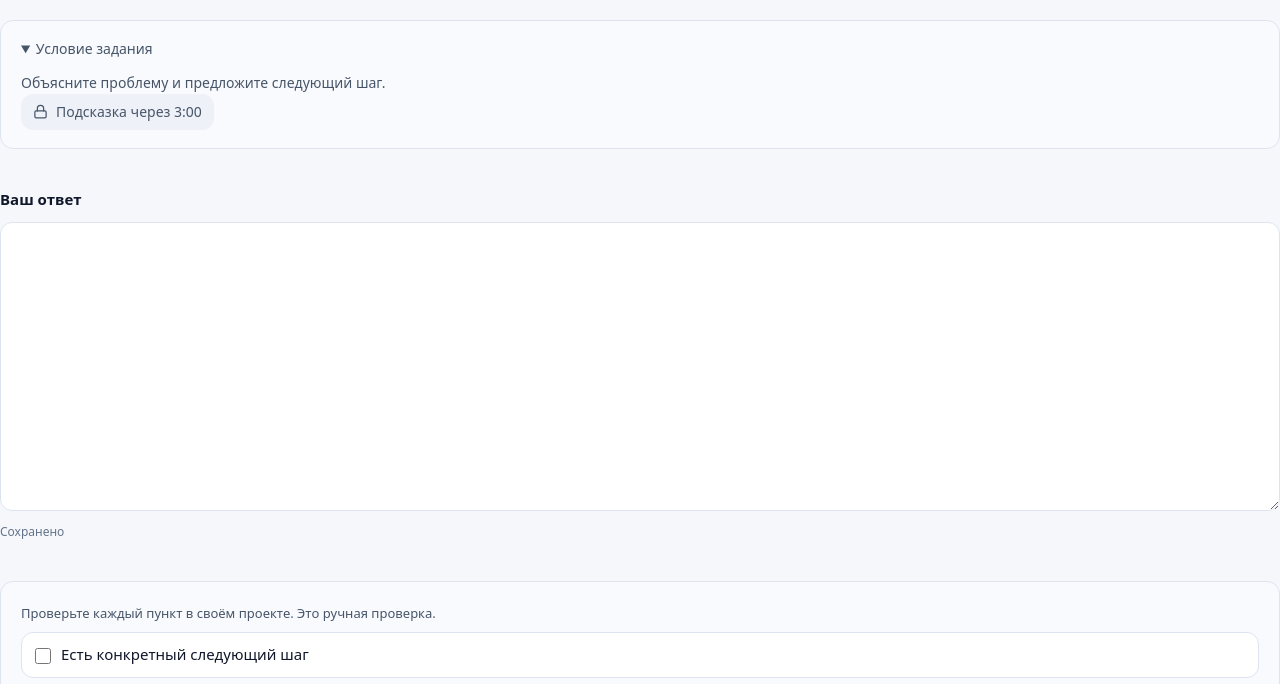
Test: written learning assignments › requires an answer, persists it and records an honest manual result once
Click the checkbox. click: {"x": 43, "y": 656}
box: [35, 648, 51, 664]
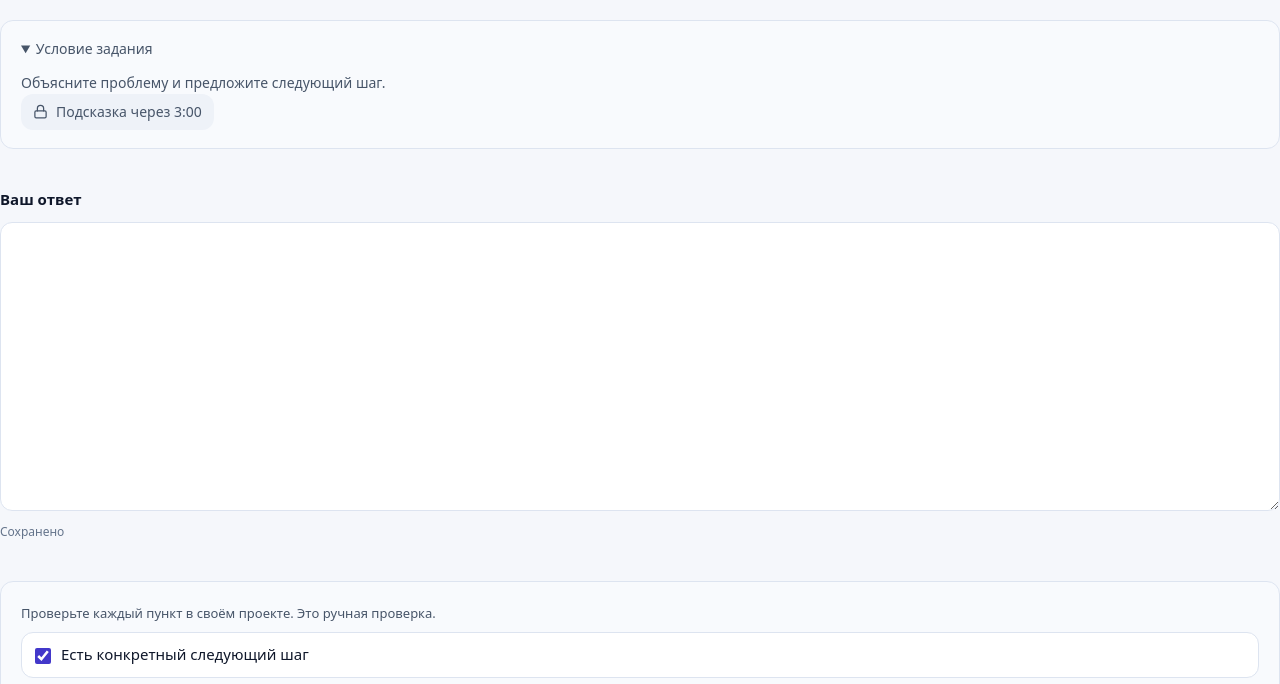
Type "Предлагаю уточнить сроки и согласовать один следующий шаг." into the text box labelled "Ваш ответ". click: {"x": 640, "y": 367}
box: [0, 222, 1279, 511]
(page scrolled)
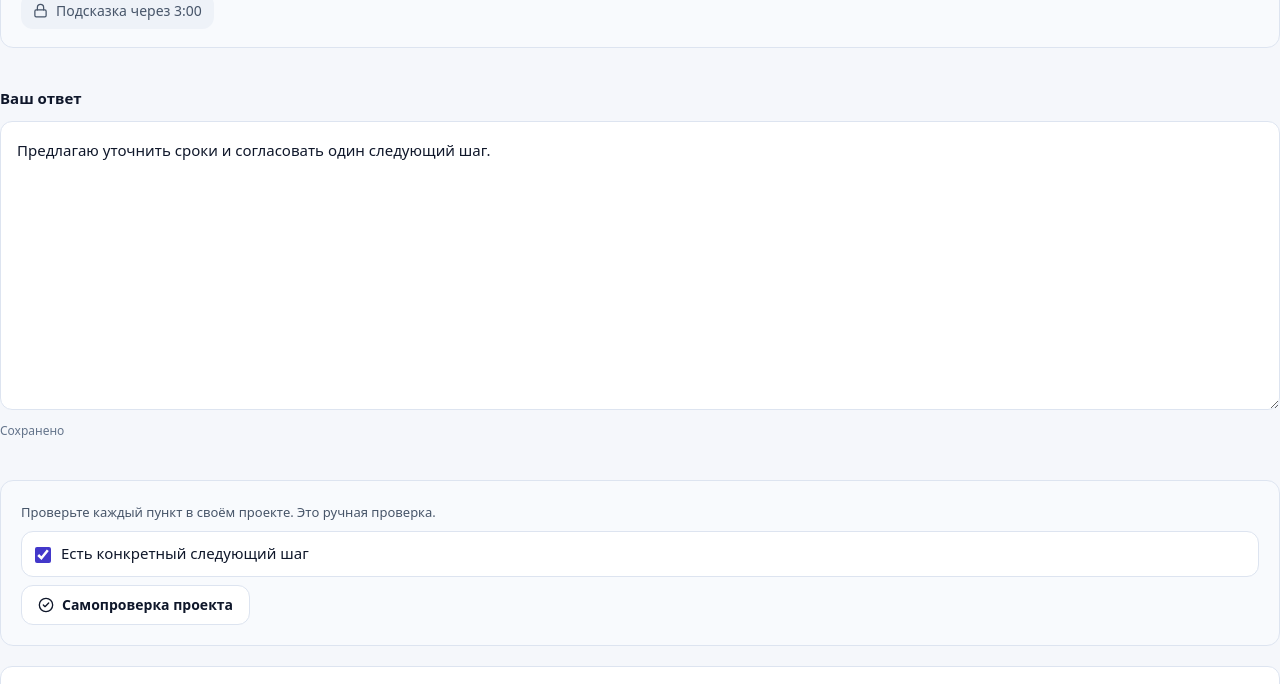
Check: the button "Самопроверка проекта" is enabled
Click the button "Самопроверка проекта". click: {"x": 136, "y": 605}
box: [21, 585, 250, 625]
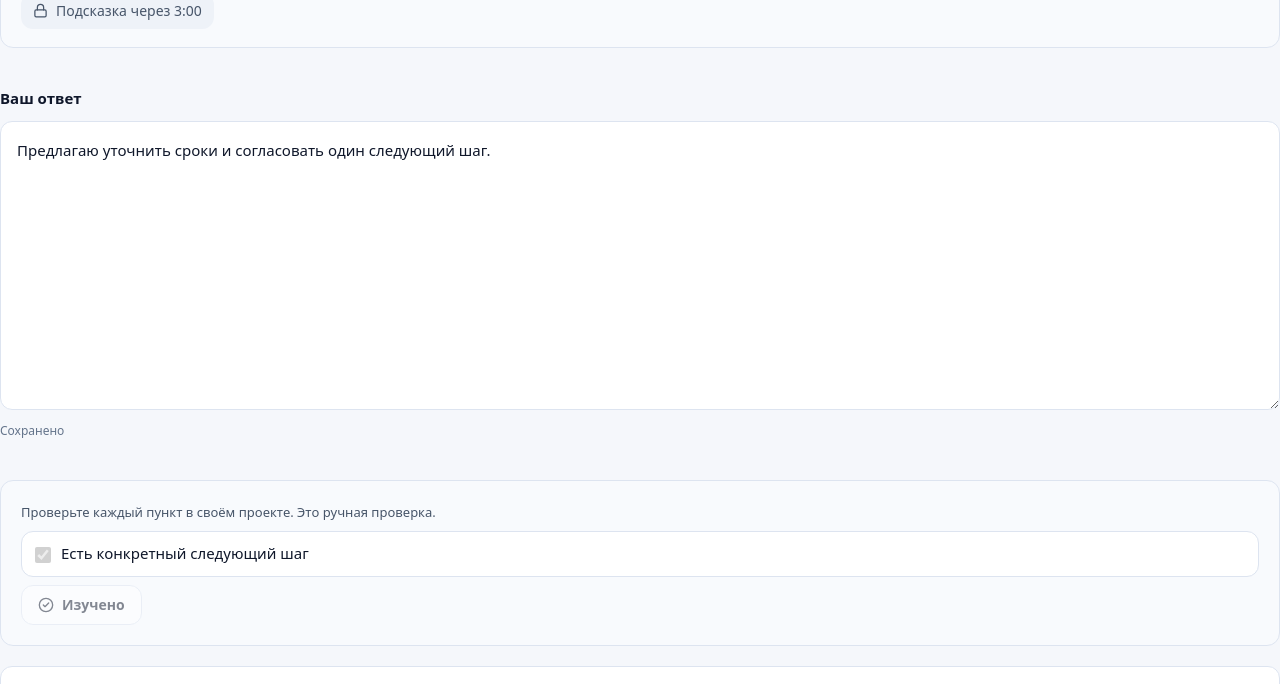
Check: the button "Изучено" is disabled, box [21, 585, 142, 625]
